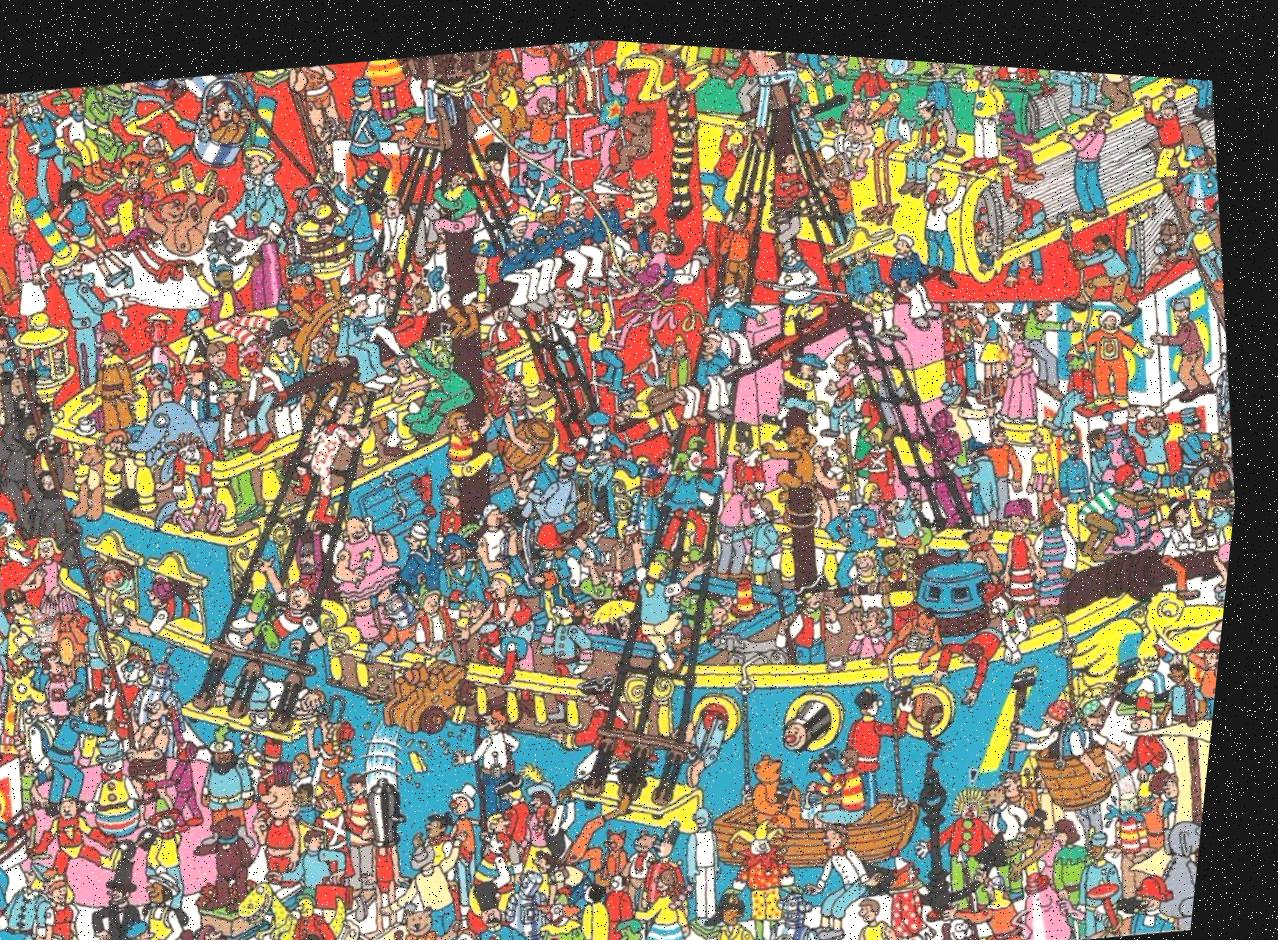waldo: (41, 605, 74, 643)
